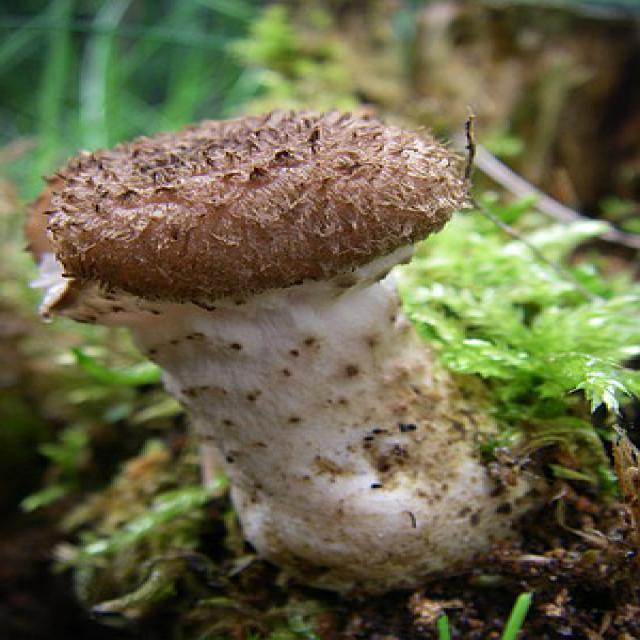Armillaria mellea: (45, 115, 532, 581)
